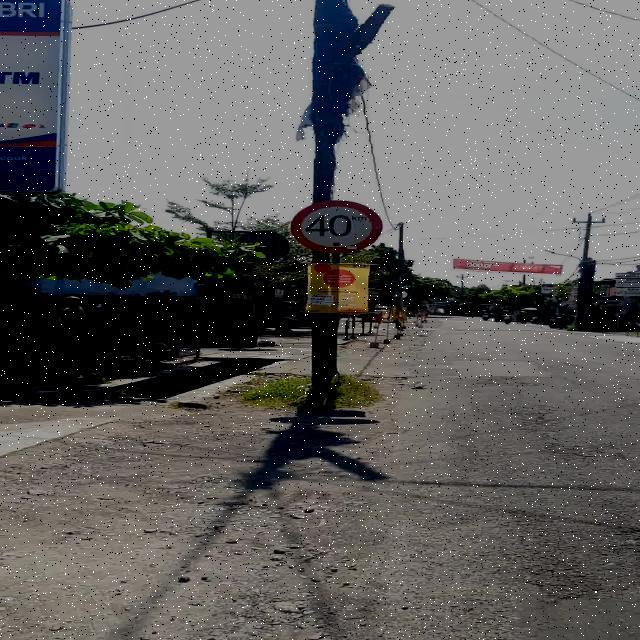Kecepatan Maks. 40 km: (291, 200, 384, 253)
